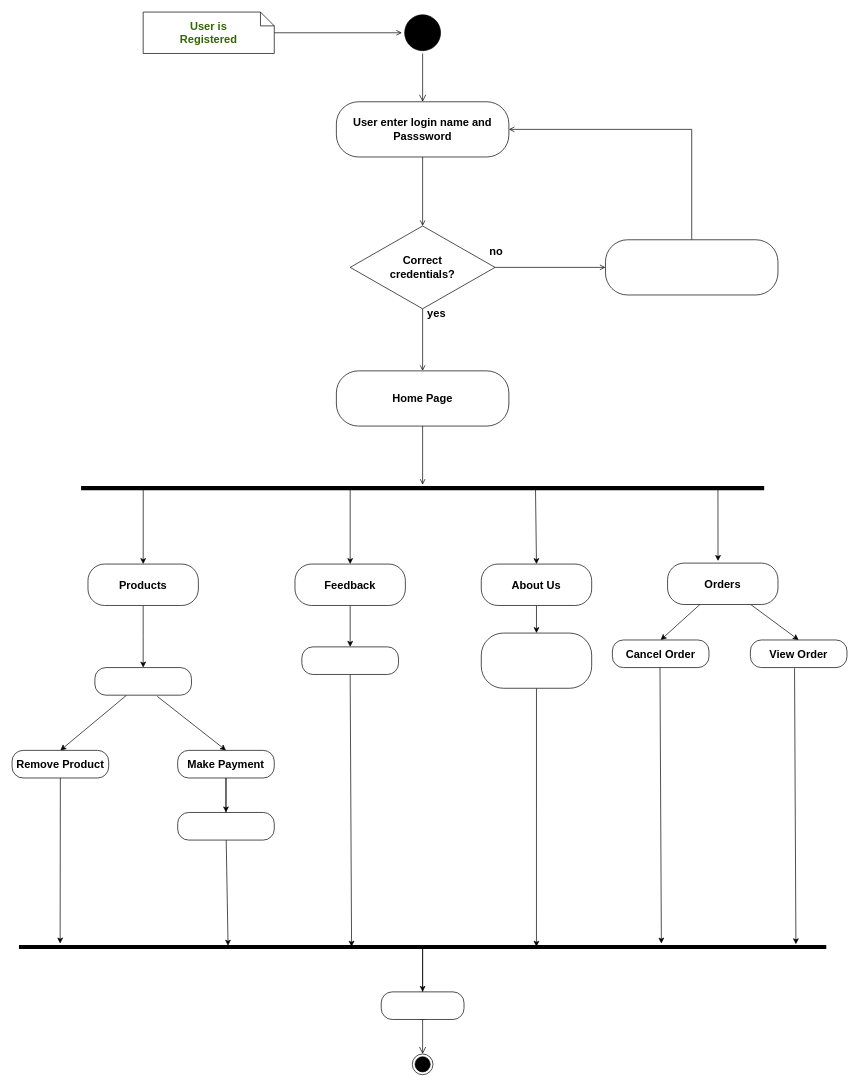
This 859x1087 diagram has some shape labels left out. The centre of each missing label's shape, as x and y in pixels:
Add to Cart: point (142, 681)
Confirm Order: point (225, 826)
Fill Feedback: point (349, 660)
Invalid Login/Password: point (691, 267)
Logout: point (422, 1005)
View Details about Company / Website: point (536, 660)
